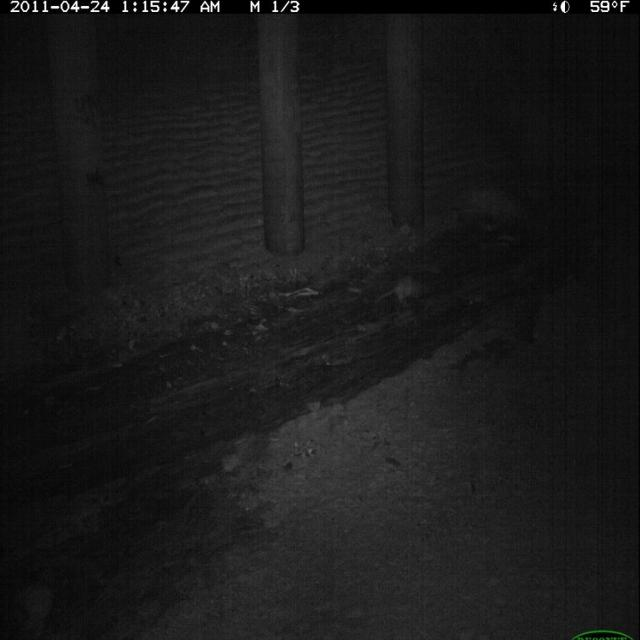opossum: (375, 269, 439, 319)
